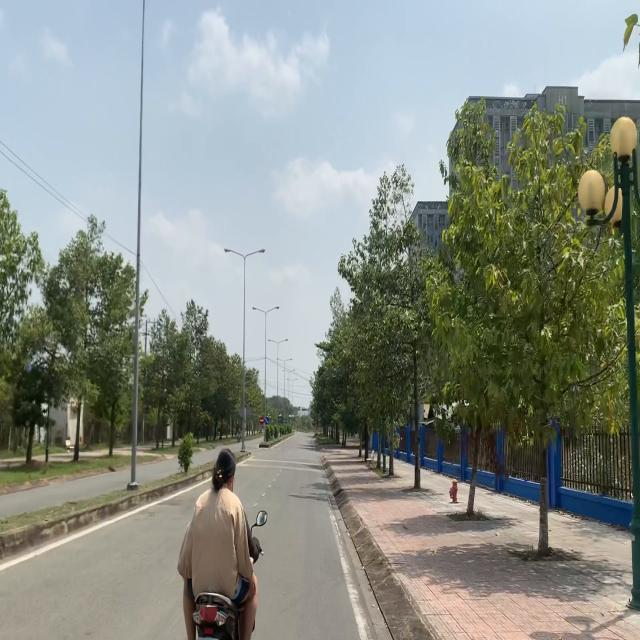Cam nguoc chieu: (259, 416, 264, 424)
Hieu lenh: (264, 416, 269, 424)
